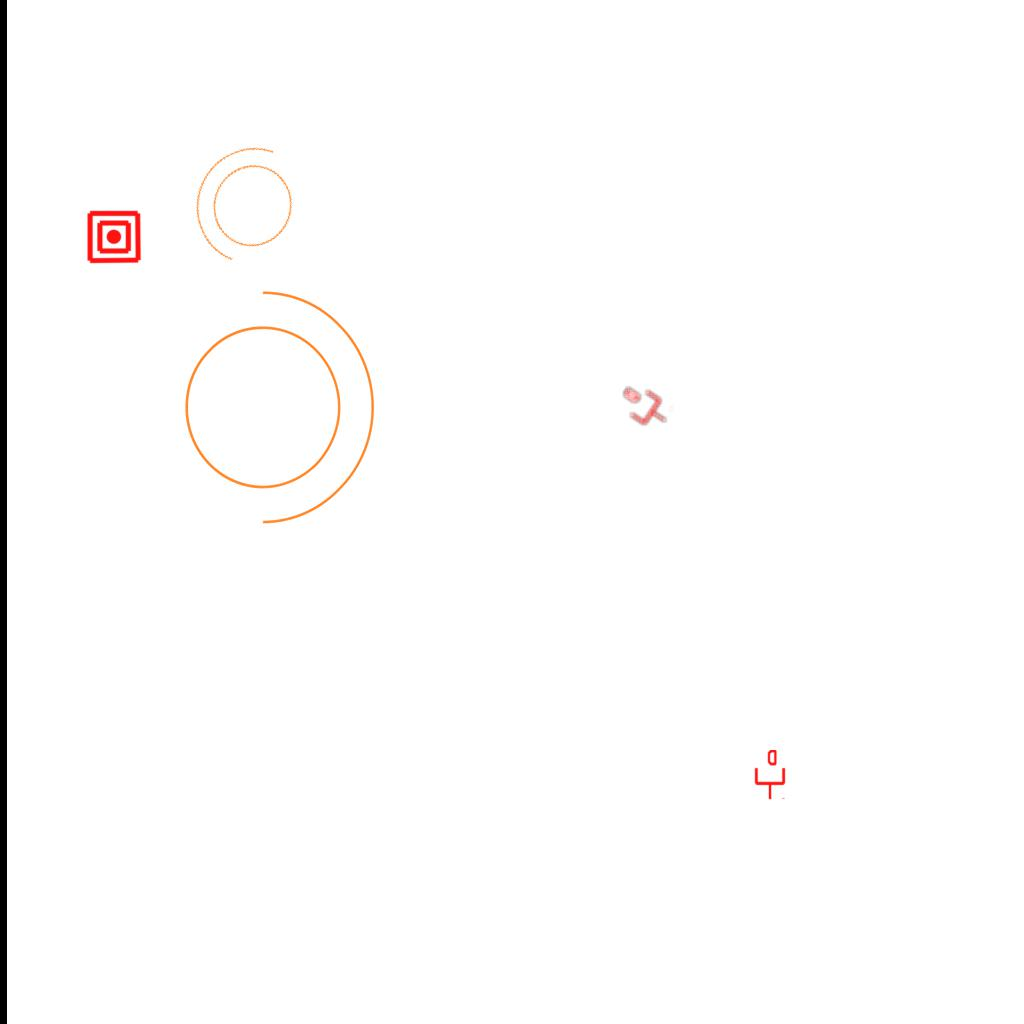Datenanschluss_einfach: (614, 378, 676, 436), (753, 750, 787, 800)
NAM-Nichtautomatischer_Melder: (86, 209, 142, 265)
Scheinwerfer_fuer_Alarmbeleuchtung: (160, 269, 385, 533), (171, 125, 323, 289)
